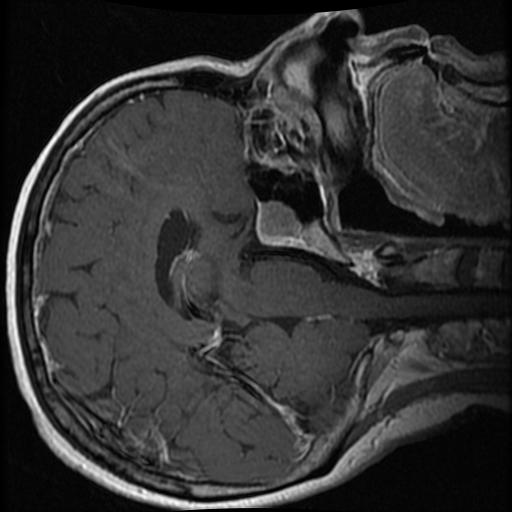pituitary tumour: (255, 201, 303, 244)
